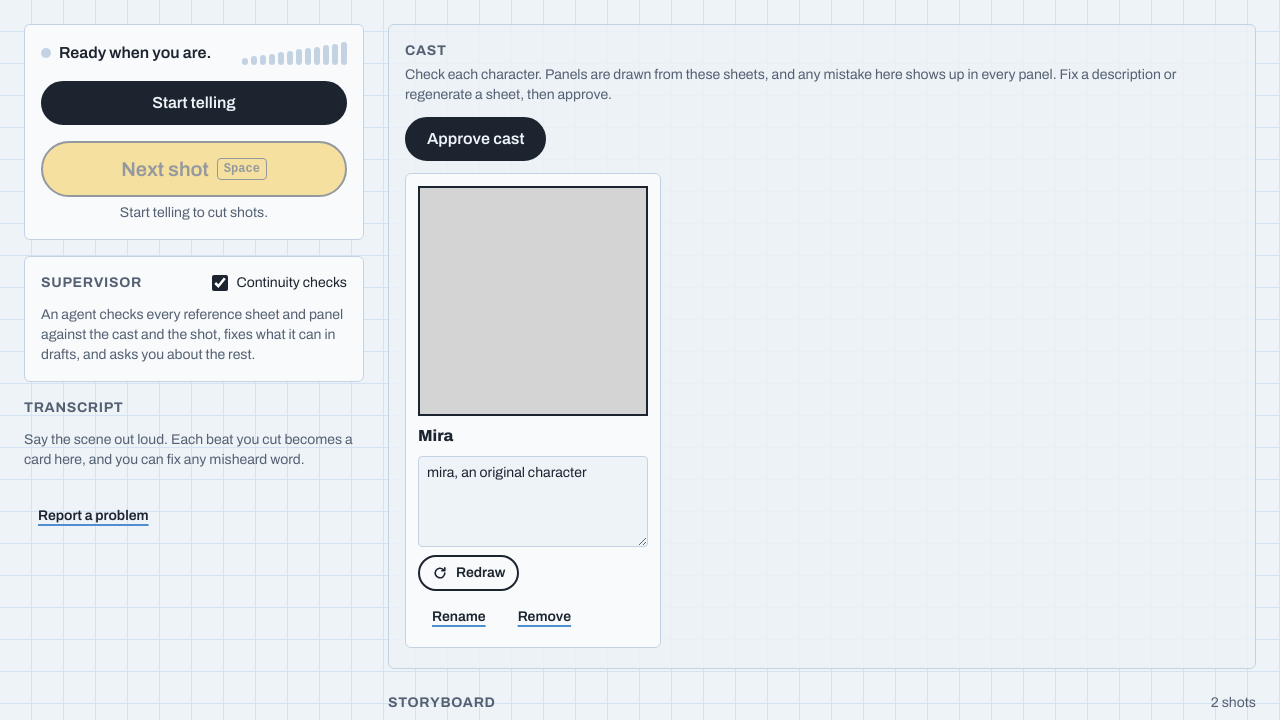
Test case: studio: cast approval gates the panels › sends edited descriptions with the approval and waits for the redrawn sheet
The image size is (1280, 720).
Step 1. Replace the text in the text box named "Description of Mira" with "a girl in a red raincoat" → (533, 502), box 418,456 -> 648,547
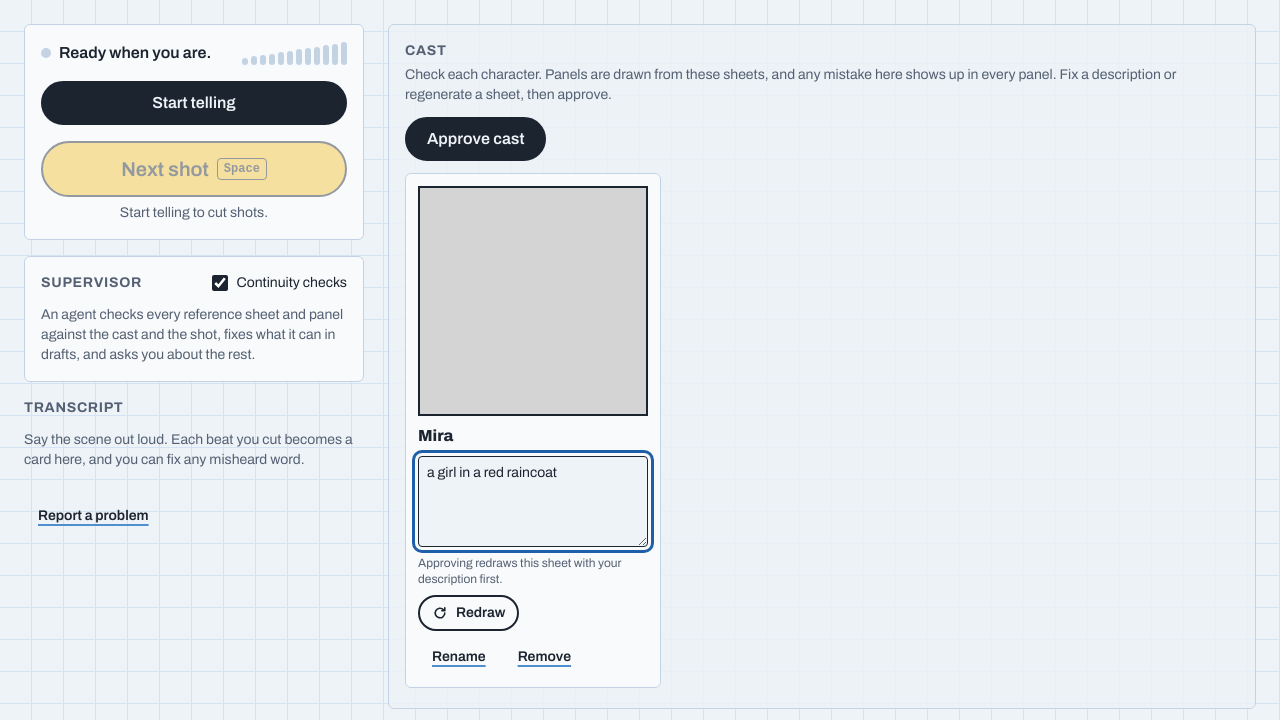
Step 2. Click the button "Approve cast" → (476, 139), box 405,117 -> 546,161
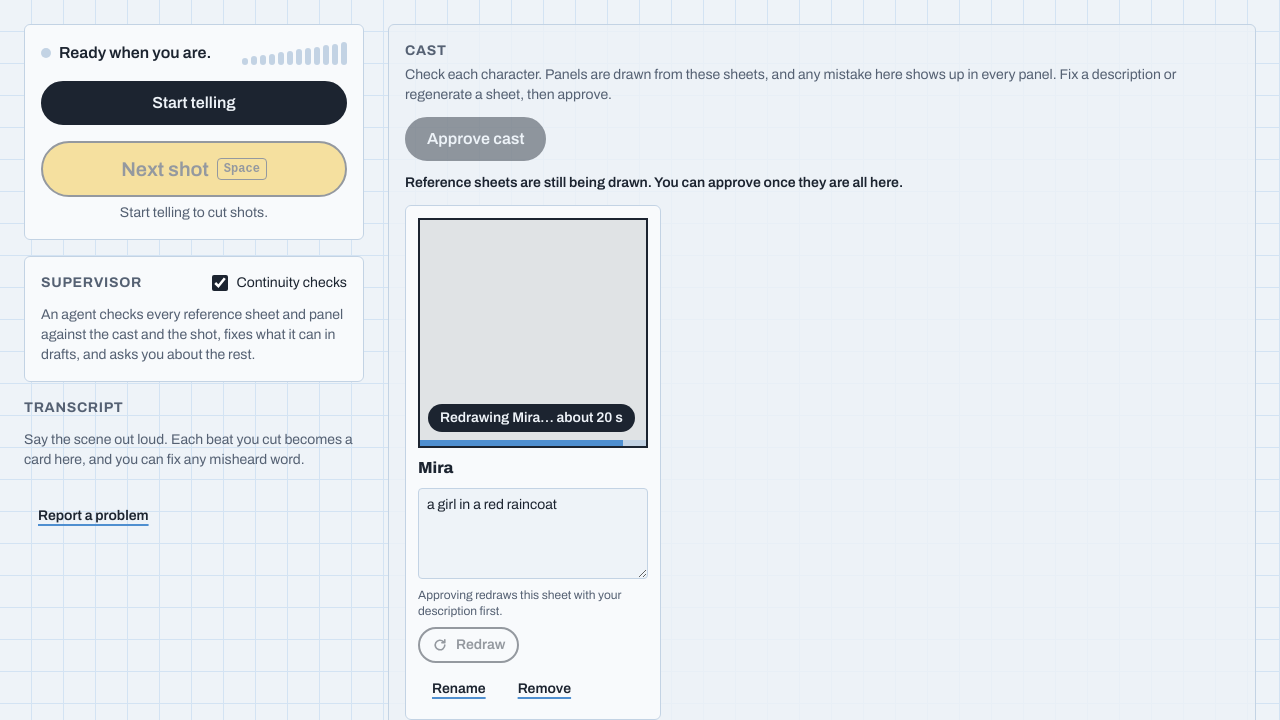
Expected: the text "Redrawing Mira… about 20 s" is shown, 428,404 -> 635,432
